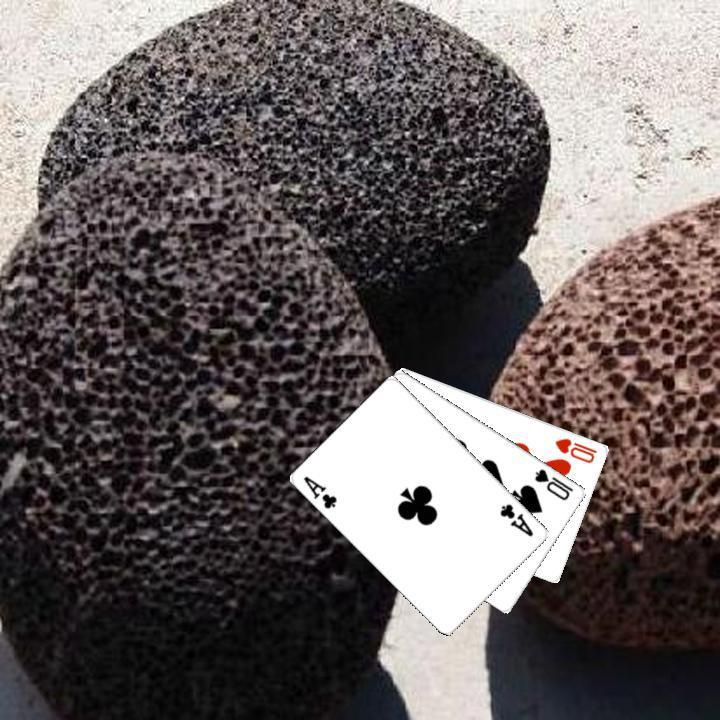10: (530, 464, 576, 502), (551, 433, 599, 465)
A: (496, 499, 536, 539), (299, 471, 339, 511)
